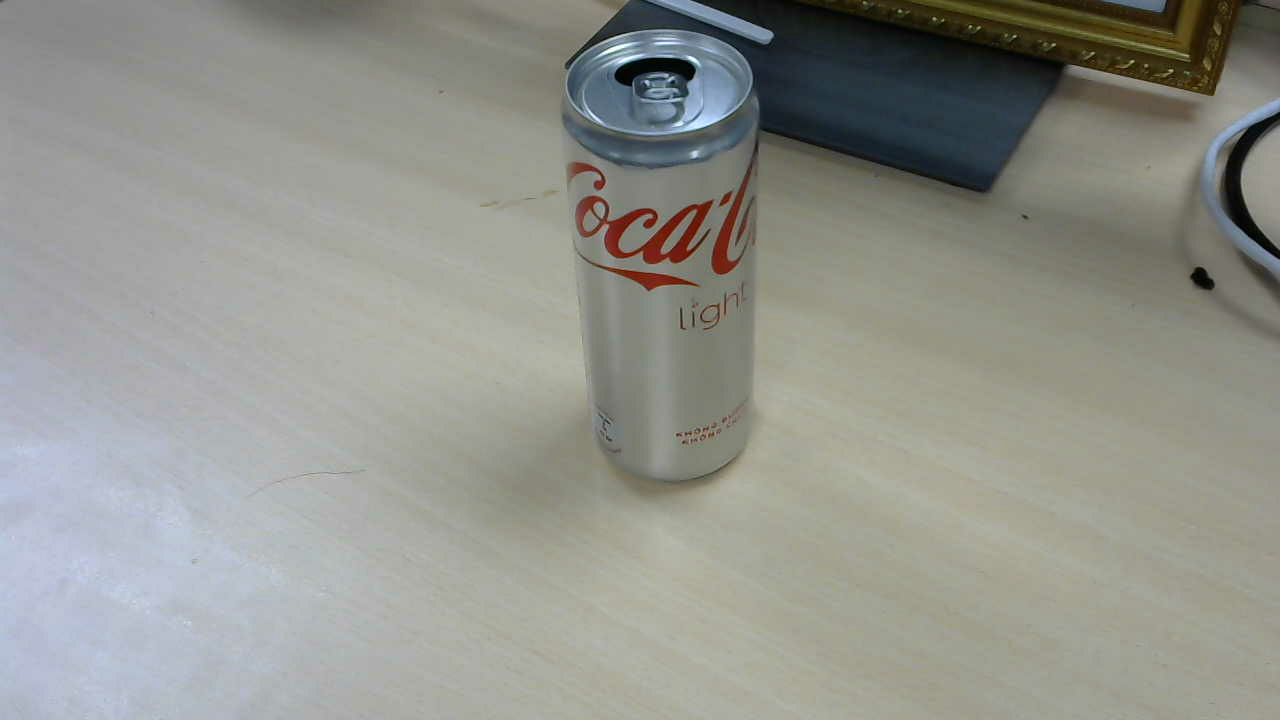Coca_Cola: (561, 33, 770, 489)
